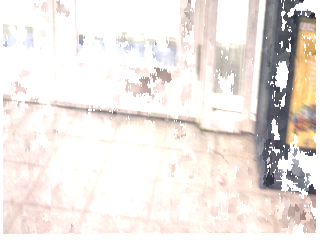Obstacle: (1, 0, 315, 200)
